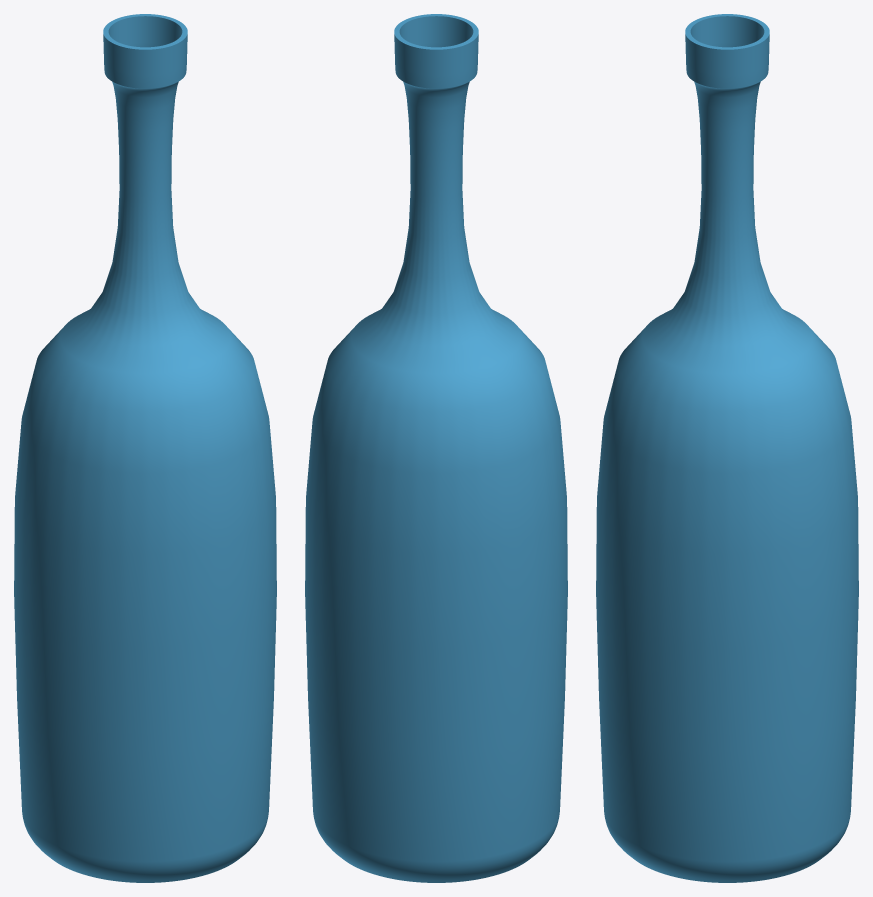
File: wazon.FBX
3 views of the same model, side by side, from view 1: azimuth 30°, elevation 25°; view 2: azimuth 150°, elevation 25°; view 3: azimuth 270°, elevation 25° (orthographic).
Parts seen in each view (by area): view 1: butelka; view 2: butelka; view 3: butelka.
Boxes of the visible parts, x1,y1,x2,y2 form: butelka: (14,14,276,882); butelka: (305,14,567,882); butelka: (596,14,858,882).
Size of the model in its own units: 10.66 by 36.12 by 10.66.
